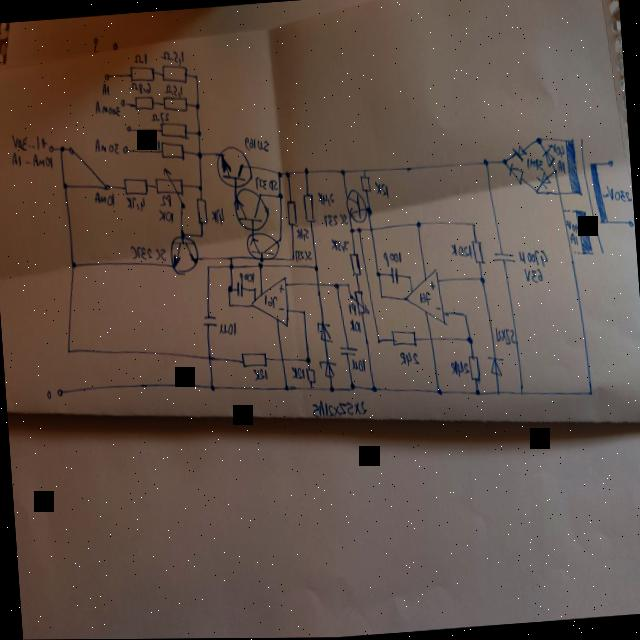capacitor: (492, 248, 514, 264), (337, 343, 358, 357), (386, 263, 399, 285), (200, 313, 218, 328), (234, 278, 243, 297)
crossover: (206, 352, 213, 360), (555, 188, 562, 196), (314, 280, 320, 286), (428, 334, 432, 341), (280, 355, 284, 362), (368, 225, 372, 231)
diode: (504, 160, 524, 189), (508, 137, 527, 165), (487, 354, 505, 377), (318, 357, 337, 377), (316, 320, 332, 343), (536, 168, 552, 189), (542, 146, 553, 168)
junction: (194, 148, 203, 159), (224, 282, 233, 293), (363, 203, 372, 214), (178, 227, 186, 239), (465, 333, 473, 343), (192, 99, 200, 109), (481, 156, 489, 166), (370, 382, 378, 392), (69, 259, 77, 268), (586, 387, 594, 396), (534, 135, 542, 144), (195, 126, 202, 136), (348, 382, 356, 390), (374, 269, 382, 277), (460, 309, 468, 317), (282, 382, 290, 390), (500, 157, 508, 165), (478, 274, 485, 283), (339, 166, 346, 175), (196, 181, 203, 190), (414, 219, 421, 228), (312, 263, 319, 271), (208, 382, 215, 390), (332, 281, 339, 289), (65, 344, 72, 352), (302, 165, 309, 173), (474, 387, 481, 395), (58, 143, 65, 151), (517, 387, 524, 395), (304, 355, 311, 363), (275, 234, 282, 242), (204, 261, 211, 269), (435, 386, 442, 394), (61, 180, 68, 188), (284, 169, 290, 178), (276, 191, 283, 198), (300, 306, 306, 314), (328, 384, 334, 392), (257, 260, 263, 268), (348, 225, 354, 233), (276, 169, 282, 177), (344, 280, 350, 288), (560, 207, 566, 215), (568, 248, 574, 256), (356, 225, 362, 232), (226, 300, 232, 307), (378, 292, 384, 298), (227, 262, 233, 268), (199, 230, 204, 237), (495, 388, 500, 395), (470, 220, 475, 226), (193, 72, 198, 78), (376, 336, 380, 343), (534, 187, 538, 194), (258, 255, 263, 260), (228, 254, 232, 260), (407, 273, 411, 279), (252, 285, 256, 291), (362, 167, 366, 173), (290, 254, 294, 260), (309, 384, 313, 390), (552, 168, 556, 174)
resistor: (153, 162, 186, 211), (159, 118, 189, 140), (160, 61, 189, 83), (238, 348, 267, 369), (160, 138, 184, 162), (389, 327, 416, 348), (160, 93, 187, 113), (128, 62, 155, 82), (349, 287, 369, 314), (122, 175, 148, 195), (468, 237, 484, 265), (467, 353, 481, 383), (302, 190, 314, 223), (195, 195, 208, 224), (132, 94, 154, 111), (348, 250, 362, 275), (286, 197, 298, 226), (304, 365, 316, 383), (359, 173, 370, 192)
switch: (62, 68, 134, 192)
terminal: (55, 385, 64, 396), (606, 156, 614, 167), (47, 142, 54, 152), (626, 218, 633, 226)
text: (310, 395, 366, 419), (10, 147, 52, 170), (129, 240, 167, 263), (10, 129, 47, 150), (600, 181, 632, 204), (518, 245, 549, 266), (93, 97, 120, 118), (242, 133, 269, 153), (93, 135, 120, 155), (159, 46, 184, 65), (253, 173, 278, 191), (381, 247, 404, 266), (521, 265, 544, 284), (321, 210, 348, 226), (92, 188, 114, 207), (494, 325, 516, 344), (136, 133, 160, 150), (449, 240, 472, 257), (127, 78, 151, 94), (449, 358, 469, 377), (398, 349, 419, 366), (125, 193, 146, 210), (156, 204, 174, 222), (316, 190, 335, 206), (163, 81, 182, 97), (218, 319, 238, 334), (209, 205, 224, 224), (329, 236, 348, 251), (293, 247, 312, 262), (294, 223, 310, 240), (548, 141, 564, 158), (262, 291, 278, 308), (374, 178, 388, 197), (150, 109, 170, 122), (251, 365, 268, 380), (526, 155, 543, 170), (290, 363, 305, 380), (418, 287, 431, 306), (350, 357, 365, 372), (564, 218, 578, 233), (132, 51, 148, 64), (238, 269, 254, 282), (159, 191, 172, 207), (556, 158, 566, 174), (568, 230, 578, 246), (348, 317, 360, 330), (100, 81, 109, 94), (428, 277, 436, 288), (44, 386, 51, 398), (277, 280, 284, 292), (276, 303, 284, 311), (434, 302, 441, 310)
transformer: (554, 132, 617, 267)
transistor: (230, 185, 270, 231), (215, 141, 252, 187), (168, 230, 200, 275), (244, 229, 279, 261)
